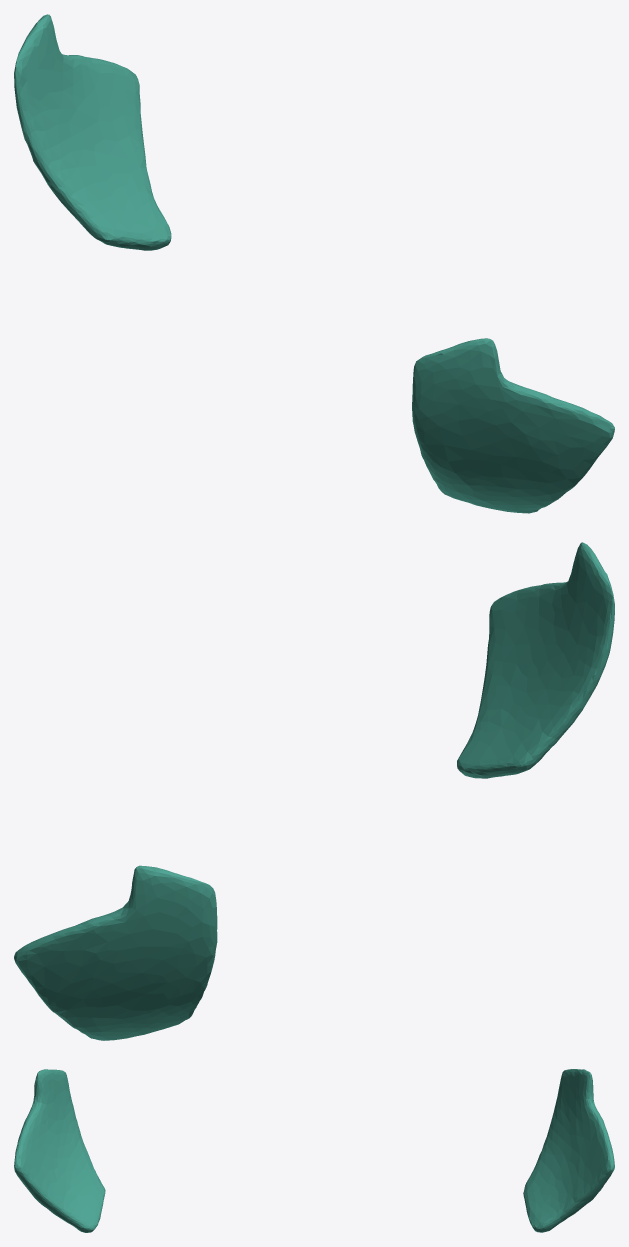
3 views of the same model, one above another, from view 1: azimuth 30°, elevation 25°; view 2: azimuth 150°, elevation 25°; view 3: azimuth 270°, elevation 25° (orthographic). The views are drawn at different scales.
Parts seen in each view (by area): view 1: 950.obj; view 2: 950.obj; view 3: 950.obj.
Part boxes in pixels (x1,y1,x2,y2): 950.obj: (14, 14, 614, 513); 950.obj: (14, 542, 614, 1040); 950.obj: (14, 1069, 614, 1232).
Size of the model in its own units: 1578 by 2049 by 8114.
